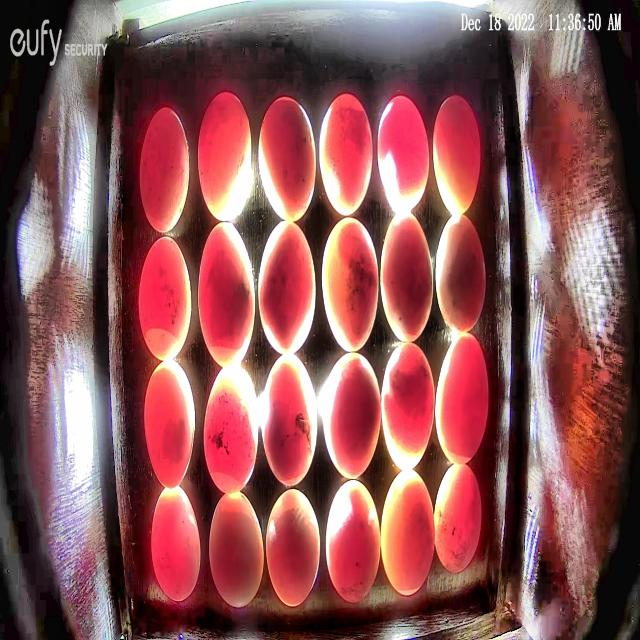FE: (198, 220, 256, 370), (322, 215, 379, 352), (258, 222, 316, 356), (260, 353, 318, 486), (324, 350, 382, 480), (257, 96, 316, 223), (435, 332, 489, 466), (380, 211, 434, 344), (381, 340, 435, 473), (380, 469, 436, 596), (198, 92, 252, 222), (204, 365, 258, 495), (318, 93, 374, 217), (144, 358, 196, 489), (326, 479, 381, 602), (208, 489, 264, 609), (266, 488, 321, 608), (139, 106, 190, 234), (138, 237, 191, 360), (376, 94, 429, 212), (150, 483, 201, 603), (435, 215, 486, 333), (432, 95, 480, 215), (434, 462, 481, 573)
